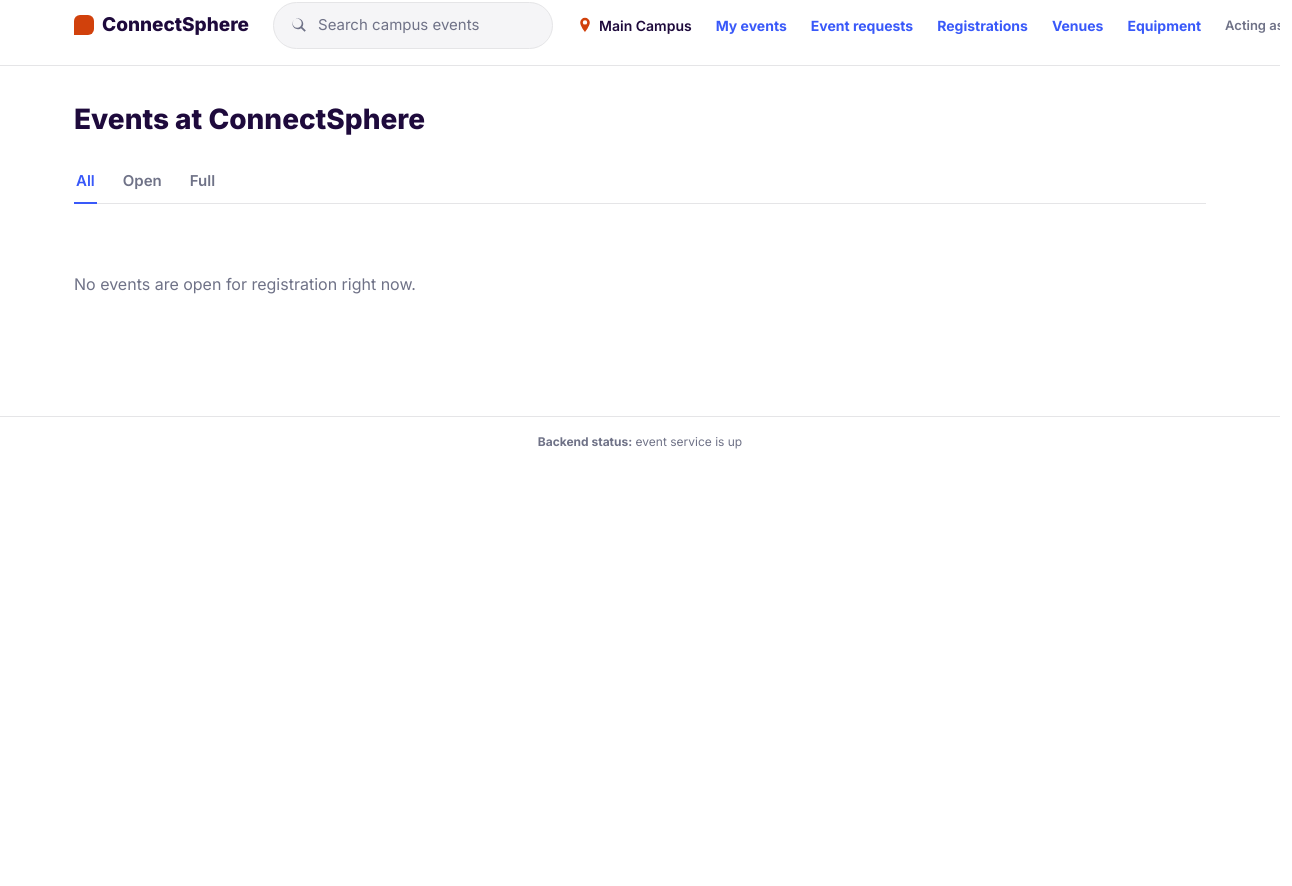
Scenario: coordinator decides a request (US17) › approves their assigned request under review (AC 1, 2, 5)
Click the button "Event requests" at (862, 25), box [811,15,913,36]
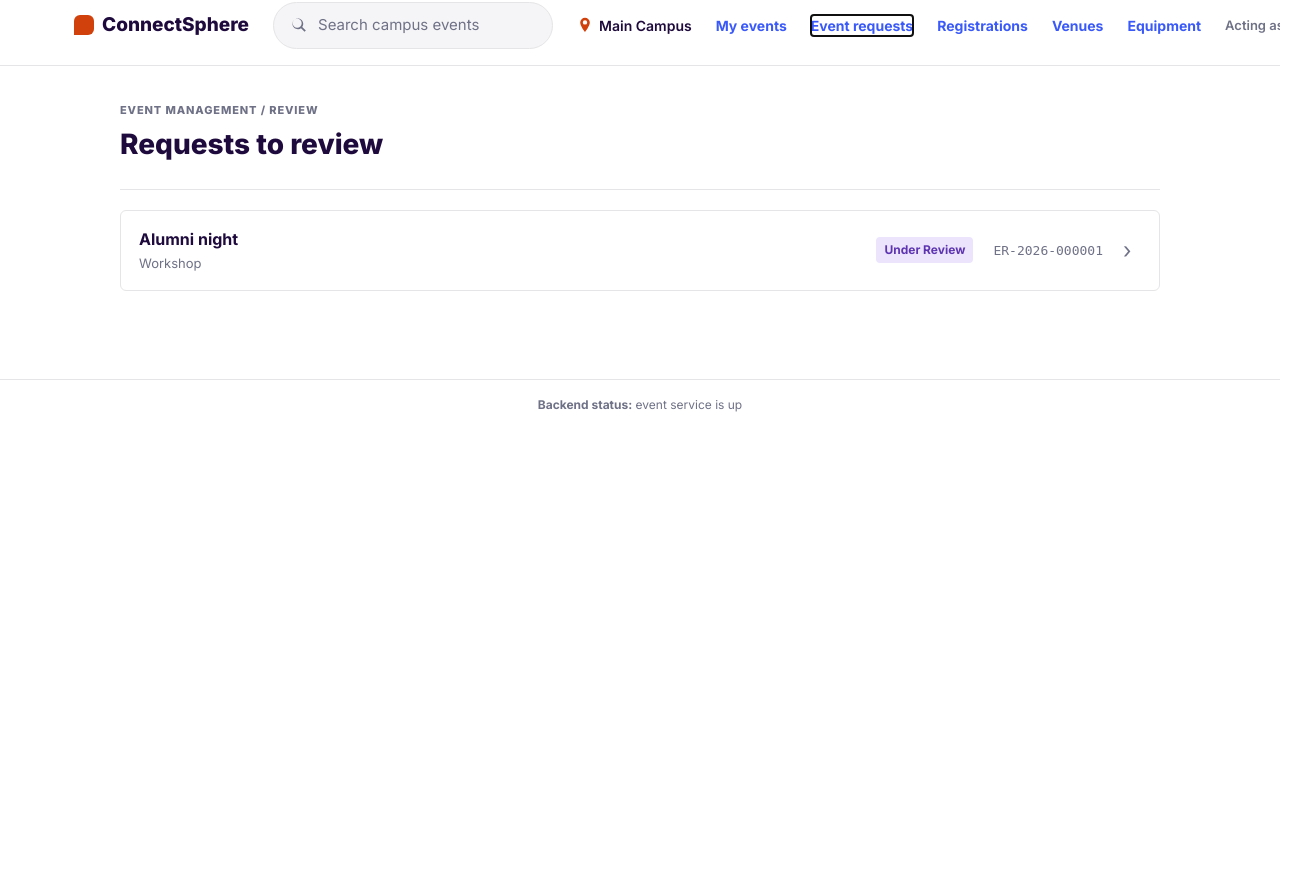
Click the button "Alumni night Workshop under review ER-2026-000001 ›" at (189, 239), box [120,210,1160,290]
(page scrolled)
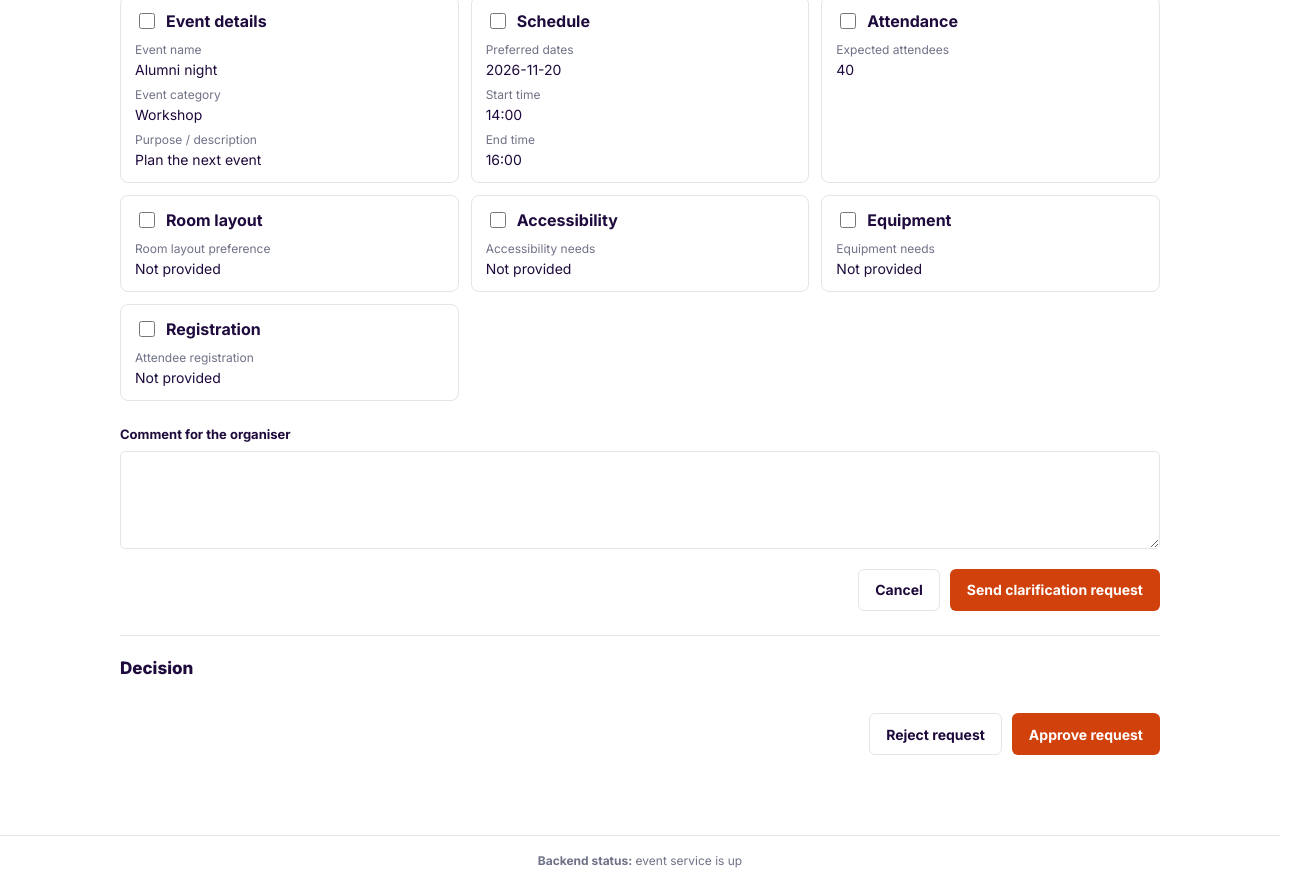
Click the button "Approve request" at (1086, 734), box [1012,713,1160,755]
(page scrolled)
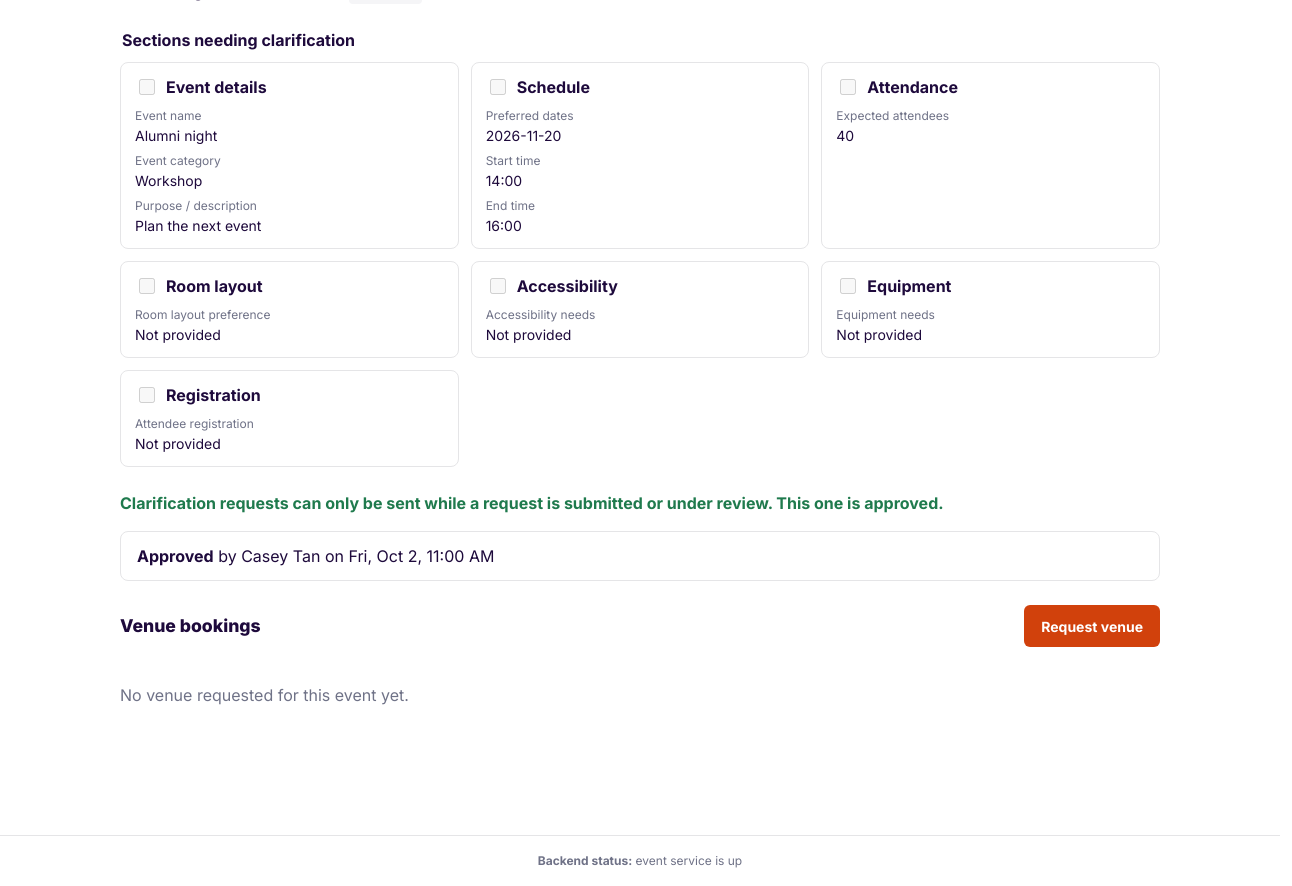
Now the message named "Decision" shows "Approved by Casey Tan on", box [120,531,1160,581]
Now the heading "Decision" is gone
